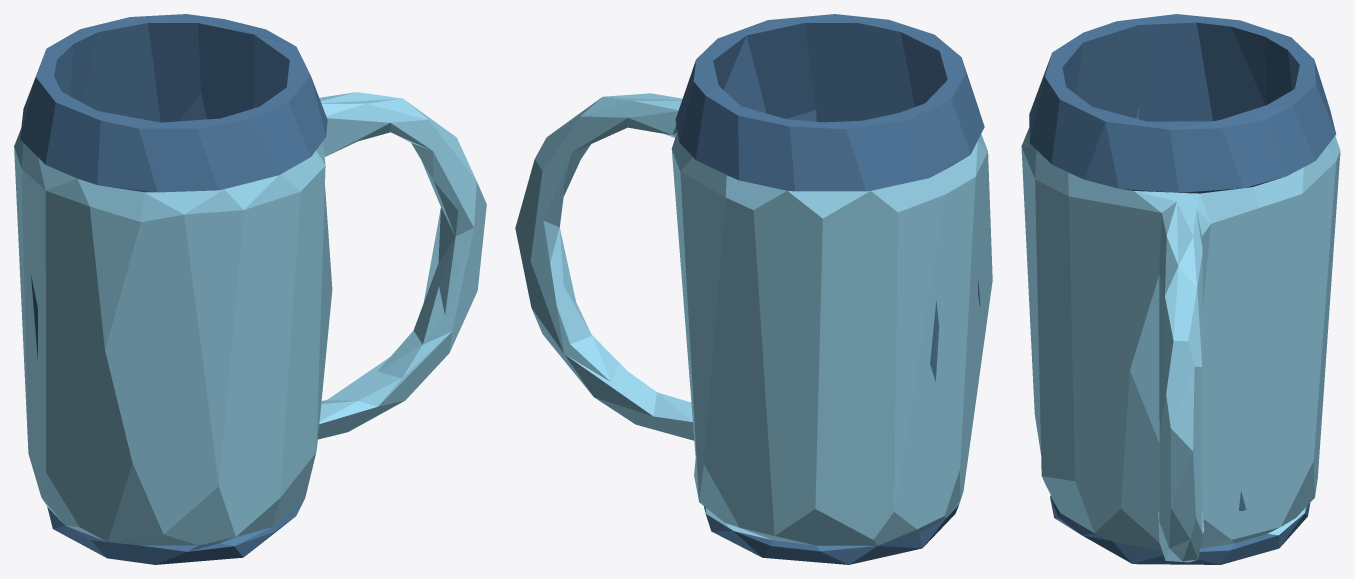
File: BeerGlas.fbx
3 renders of one model, left to right at view 1: azimuth 30°, elevation 25°; view 2: azimuth 150°, elevation 25°; view 3: azimuth 270°, elevation 25°, orthographic.
Visible parts, largest first — view 1: BeerGlasLowPoly; view 2: BeerGlasLowPoly; view 3: BeerGlasLowPoly.
Part boxes in pixels (<box>): BeerGlasLowPoly: <box>14,14,486,564</box>; BeerGlasLowPoly: <box>515,14,992,564</box>; BeerGlasLowPoly: <box>1021,14,1340,564</box>.
Bounding box in the file's own units: 17.99 × 17.06 × 11.14.
